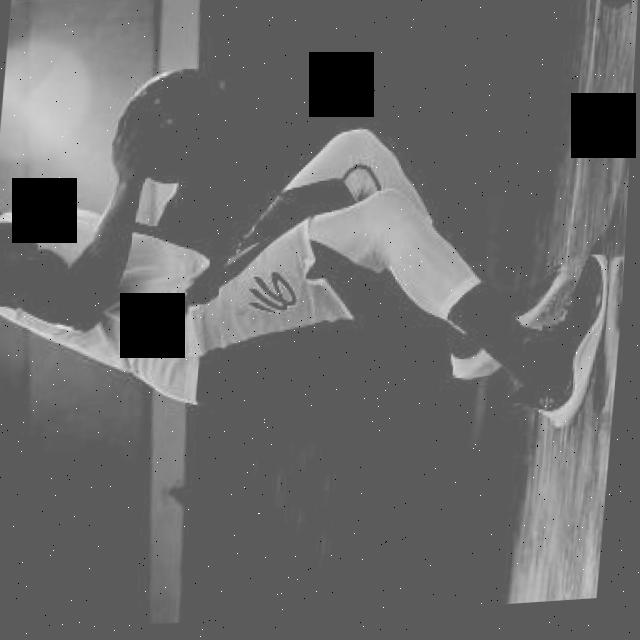shoe: (507, 260, 614, 438), (433, 269, 578, 389)
